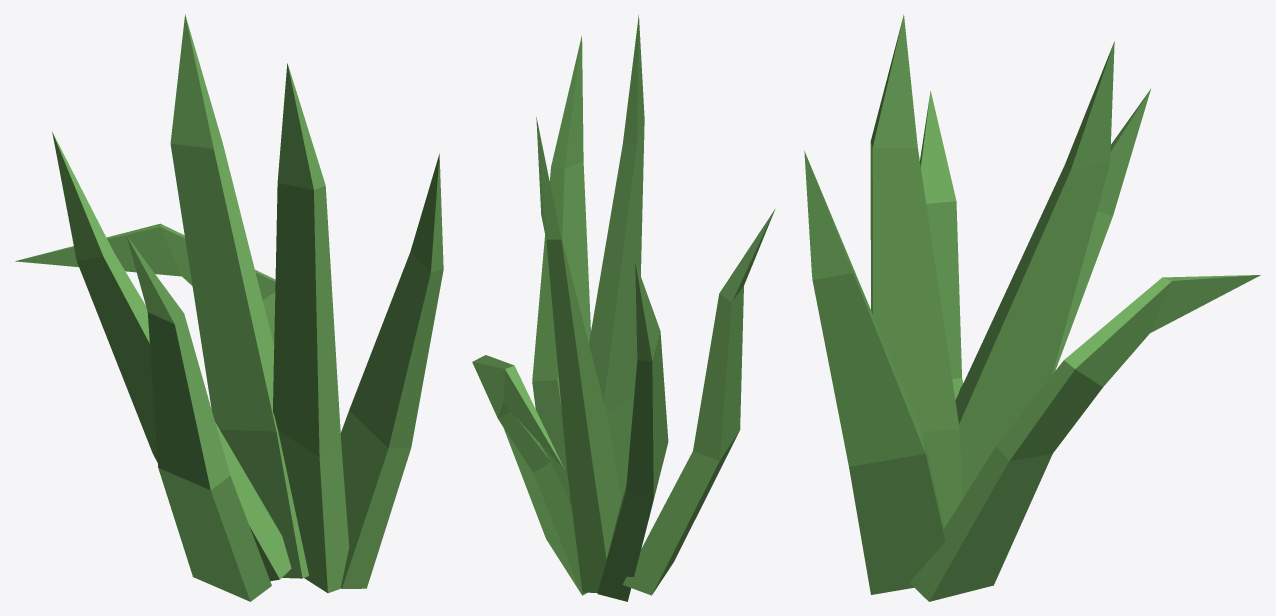
Rendered from grass3.fbx.
The picture shows the model from 3 angles, left to right: view 1: azimuth 30°, elevation 25°; view 2: azimuth 150°, elevation 25°; view 3: azimuth 270°, elevation 25°; orthographic projection. The views are drawn at different scales.
Visible parts, largest first — view 1: grass 3; view 2: grass 3; view 3: grass 3.
Boxes of the visible parts, bbox=[...] form: grass 3: bbox=[15, 14, 443, 601]; grass 3: bbox=[472, 15, 775, 601]; grass 3: bbox=[804, 14, 1260, 601].
Size of the model in its own units: 79.14 by 159 by 116.
